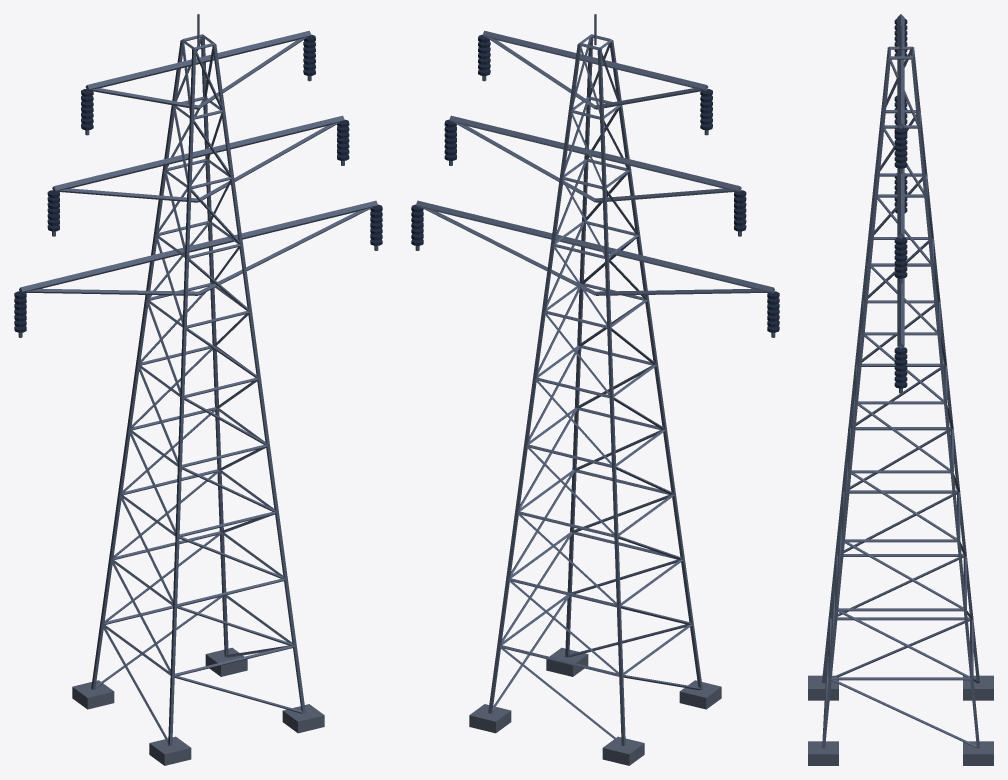
Rendered from power_hv_pylon.glb.
The picture shows the model from 3 angles, left to right: view 1: azimuth 30°, elevation 25°; view 2: azimuth 150°, elevation 25°; view 3: azimuth 270°, elevation 25°; orthographic projection.
Visible parts, largest first — view 1: metal, concrete_raw_cast, glass; view 2: metal, concrete_raw_cast, glass; view 3: metal, concrete_raw_cast, glass.
Part boxes in pixels (box(x1,y1,x2,y2)): metal: box(18, 14, 378, 745); concrete_raw_cast: box(72, 647, 324, 765); glass: box(14, 34, 382, 332); metal: box(415, 14, 775, 745); concrete_raw_cast: box(469, 647, 721, 765); glass: box(411, 34, 779, 332); metal: box(822, 14, 979, 748); concrete_raw_cast: box(808, 675, 993, 765); glass: box(894, 18, 907, 388).
Bounding box in the file's own units: 16.5 × 30 × 7.2.
